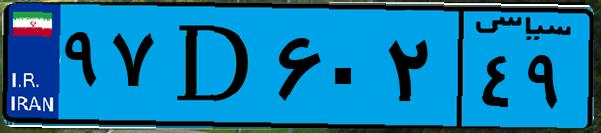0: (330, 28, 385, 110)
2: (385, 28, 445, 110)
4: (475, 38, 525, 113)
6: (270, 28, 330, 110)
7: (110, 28, 158, 98)
9: (57, 26, 110, 100), (525, 38, 570, 115)
D: (158, 12, 270, 120)
